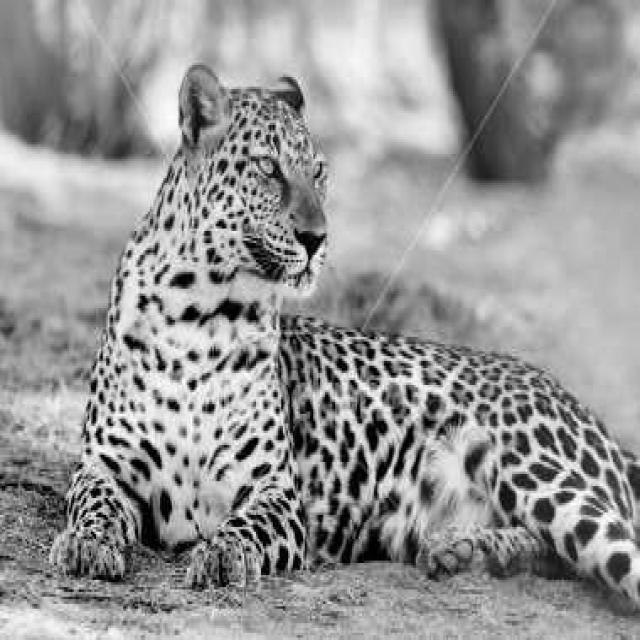Leopard: (47, 67, 517, 517)
